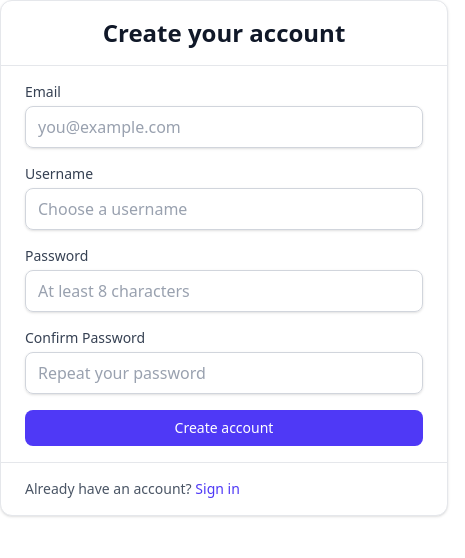
Test: RegisterPage › validates password mismatch
The image size is (465, 558).
Step 1. Type "test@example.com" into the field labelled "Email" → (224,127), box [25,106,423,148]
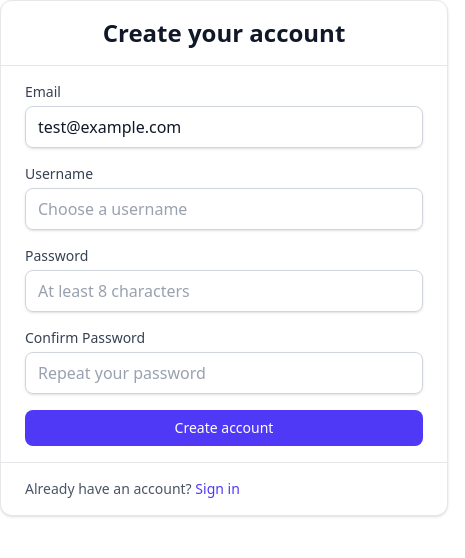
Step 2. Type "testuser" into the field labelled "Username" → (224,209), box [25,188,423,230]
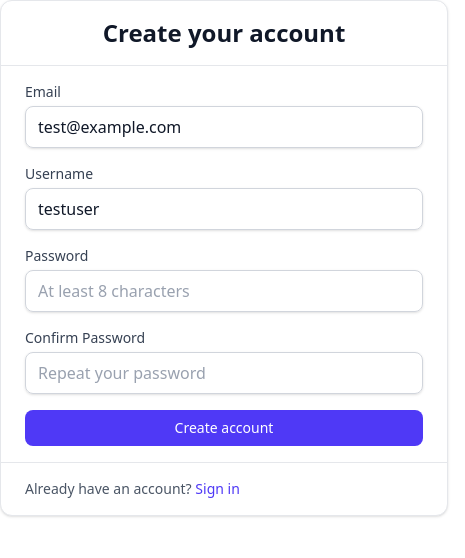
Step 3. Type "password123" into the password field labelled "Password" → (224,291), box [25,270,423,312]
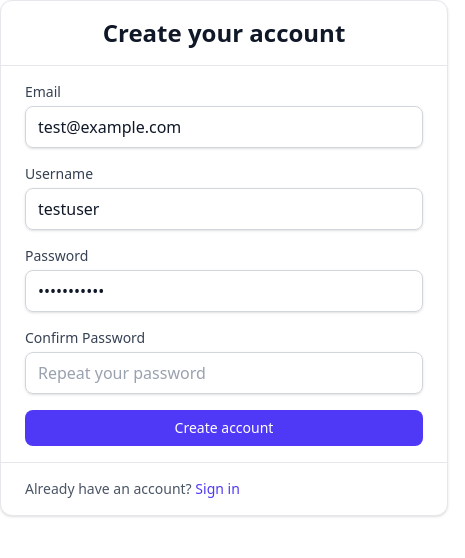
Step 4. Type "different" into the password field labelled "Confirm Password" → (224,373), box [25,352,423,394]
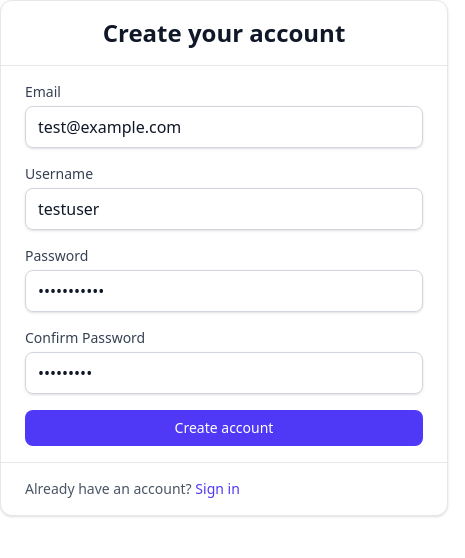
Step 5. Click the button "Create account" → (224,428), box [25,410,423,446]
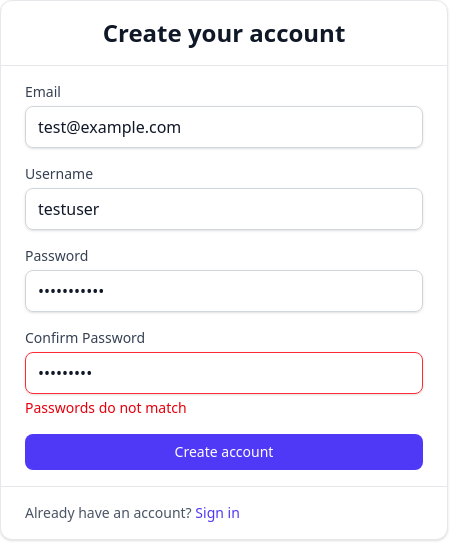
Expected: the text "Passwords do not match" is shown, [25,398,187,417]
